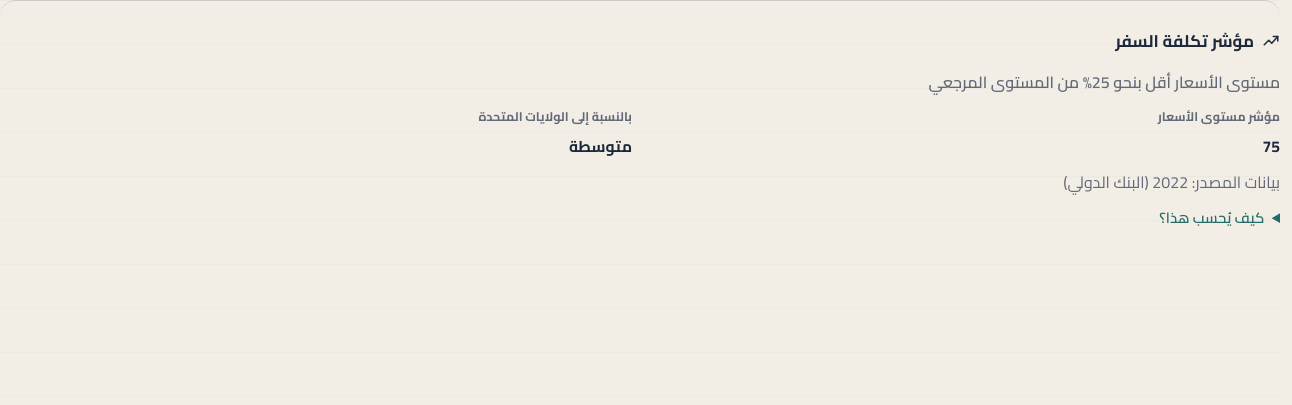
Test: Composition-refinement pass — Travel Cost <details> disclosure (concise by default, full text one tap away) › Arabic: summary label is the Arabic string, and disclosure toggles the same way
Expected: the heading "مؤشر تكلفة السفر" is shown, [1115,25,1280,57]
What coordinates should you click on to do the following:
click the heading "كيف يُحسب هذا؟"
I would click on:
 (1212, 217)
Its box is [1159,204,1264,231].
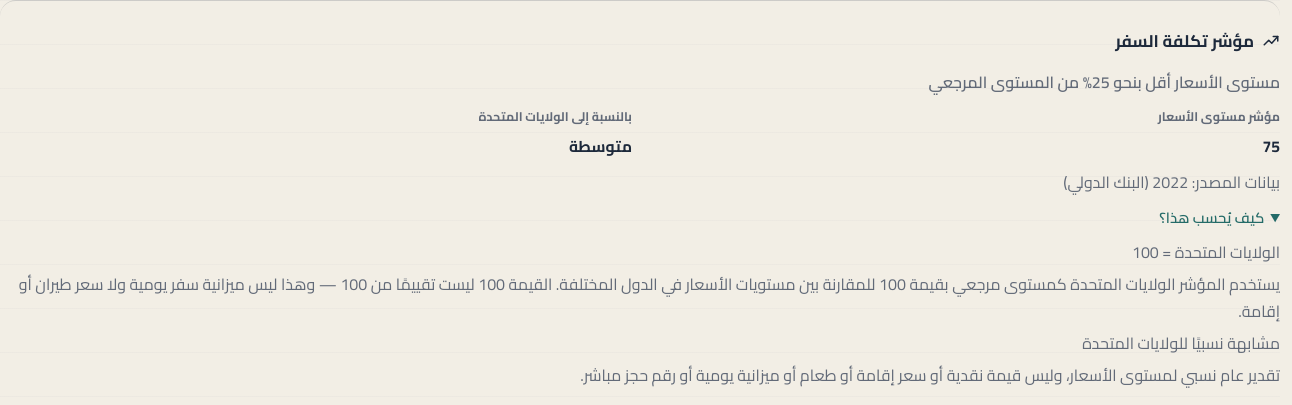
Expected: the element with class "tc-more-details" has attribute open, [0,204,1280,389]
